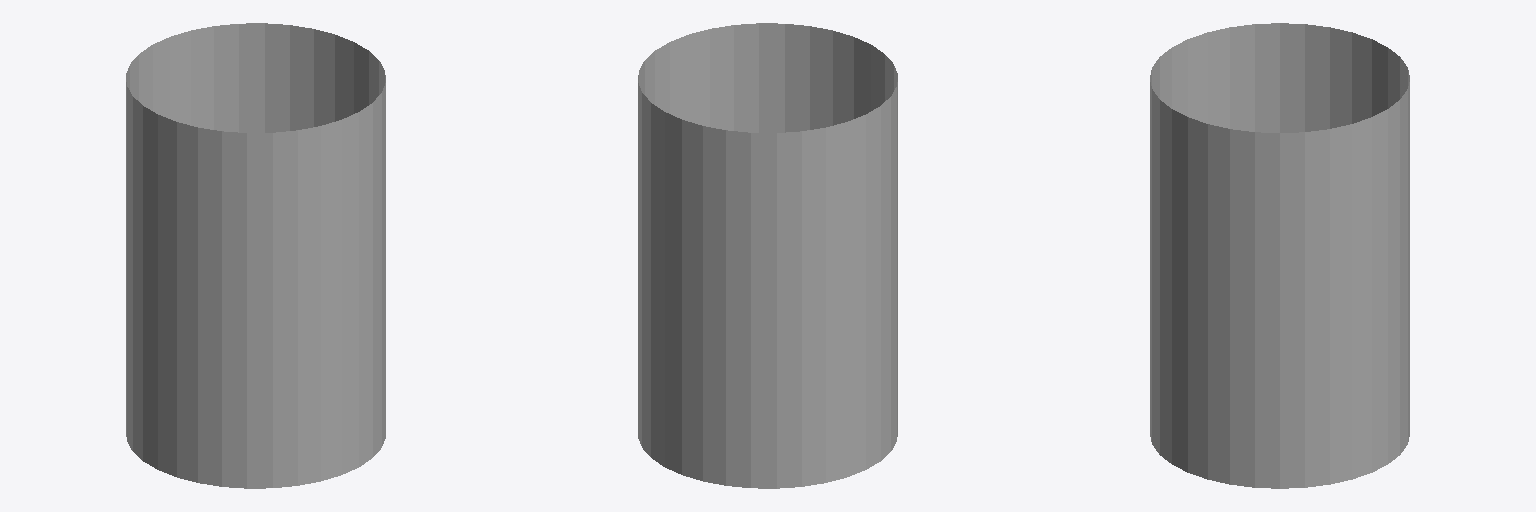
File: glass.obj
The picture shows the model from 3 angles: view 1: azimuth 30°, elevation 25°; view 2: azimuth 150°, elevation 25°; view 3: azimuth 270°, elevation 25°; orthographic projection.
Visible parts, largest first — view 1: Cylinder; view 2: Cylinder; view 3: Cylinder.
Boxes of the visible parts, <box> form: Cylinder: <box>126,23,385,488</box>; Cylinder: <box>638,23,897,488</box>; Cylinder: <box>1150,23,1409,488</box>.
Size of the model in its own units: 2 by 3.01 by 2.